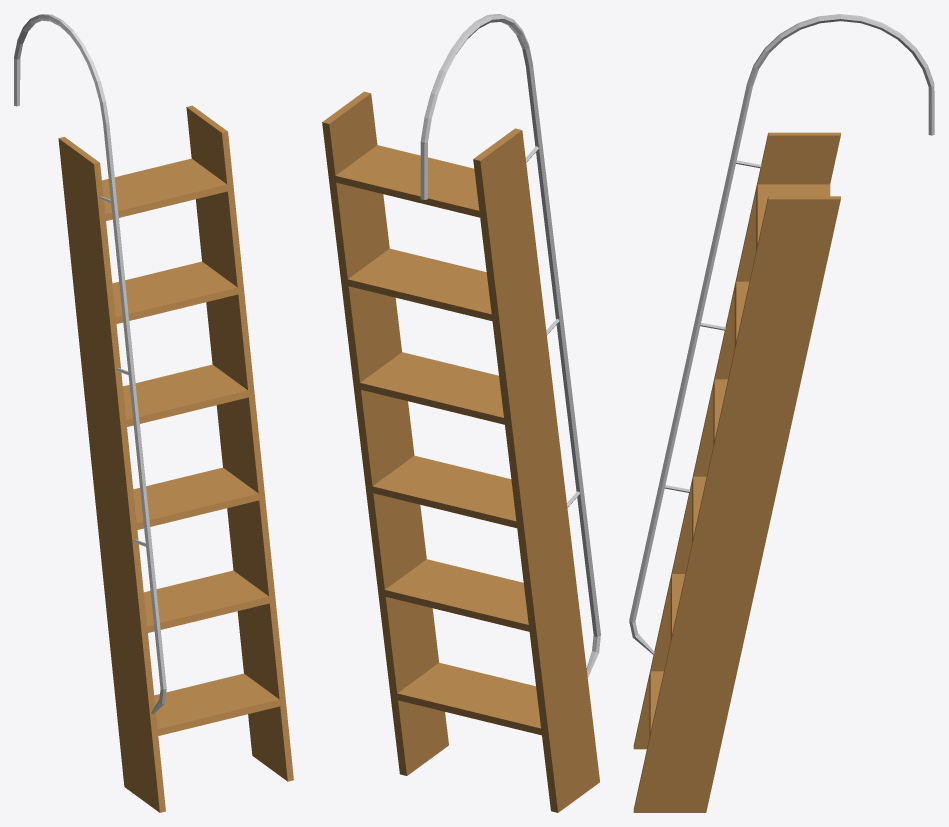
File: sweethome3d-contributions-ladder-391.glb
The picture shows the model from 3 angles, left to right: view 1: azimuth 30°, elevation 25°; view 2: azimuth 150°, elevation 25°; view 3: azimuth 270°, elevation 25°; orthographic projection. The views are drawn at different scales.
Visible parts, largest first — view 1: 6_6, 2_2; view 2: 6_6, 2_2; view 3: 6_6, 2_2.
Part boxes in pixels (left/top/right/bottom): 6_6: left=58, top=105, right=293, bottom=812; 2_2: left=14, top=14, right=166, bottom=714; 6_6: left=322, top=91, right=599, bottom=812; 2_2: left=420, top=14, right=600, bottom=678; 6_6: left=633, top=132, right=840, bottom=812; 2_2: left=629, top=14, right=934, bottom=654.
Bounding box in the file's own units: 44 × 225 × 85.
